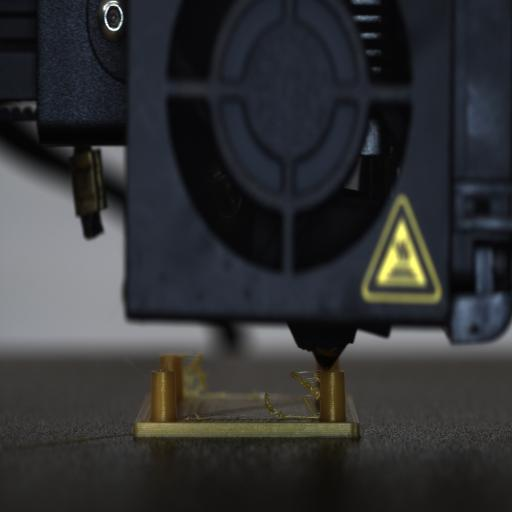stringing: (184, 356, 320, 420), (193, 413, 201, 419)
